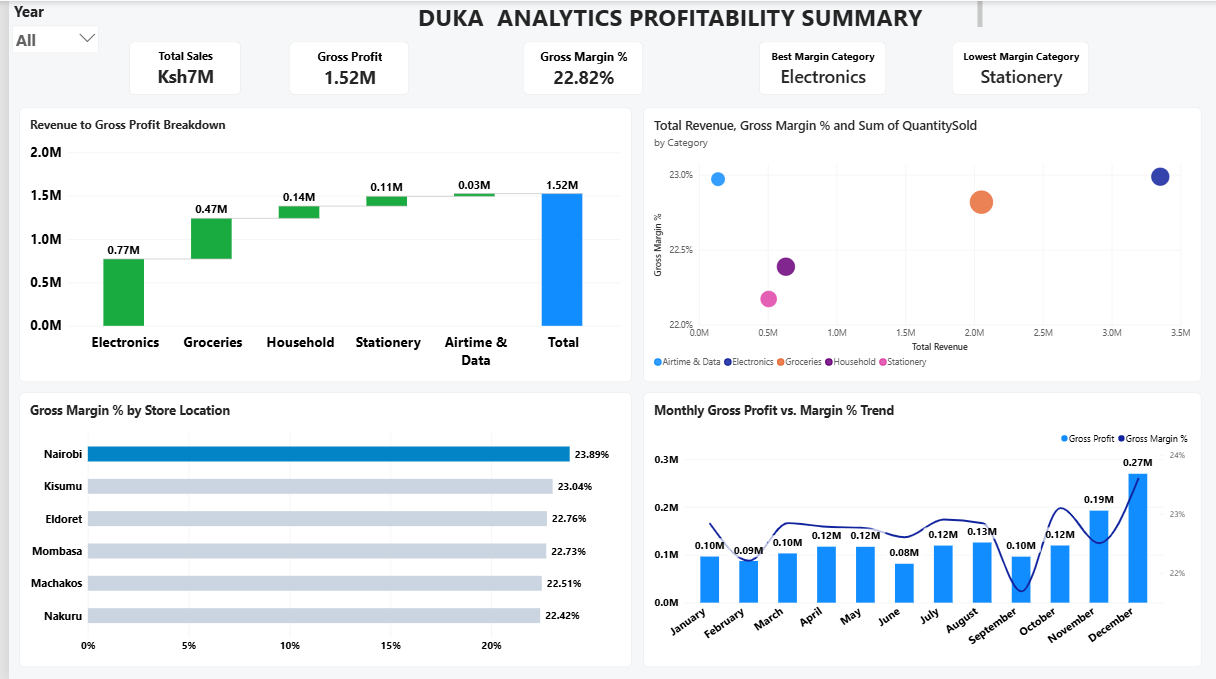

The page's visual inventory and layout, read from the dashboard file:
{"tool":"powerbi","page":{"name":"Profitability","canvas":[1920,1080],"ordinal":4},"visuals":[{"type":"waterfallChart","title":"Revenue to Gross Profit Breakdown","fields":{"Category":["DimProduct.Category"],"Y":["Table.Gross Profit"]},"box":[16.7,169.4,973.5,436.6],"z":0},{"type":"pivotTable","fields":{"Rows":["DimProduct.ProductName"],"Values":["Table.Gross Margin %"]},"box":[1925.3,354.6,543.5,1090.2],"z":1000},{"type":"slicer","fields":{"Values":["DimCalendar.Year"]},"box":[0,0,147.9,90.7],"z":2000},{"type":"textbox","box":[563.1,0,985.4,45.3],"z":3000},{"type":"cardVisual","fields":{"Data":["Measures_table.Gross Profit"]},"box":[446.2,64.4,190.9,85.9],"z":4000},{"type":"cardVisual","fields":{"Data":["Measures_table.Gross Margin %"]},"box":[818.4,64.4,190.9,85.9],"z":5000},{"type":"cardVisual","fields":{"Data":["Measures_table.Best Margin Category"]},"box":[1193,64.4,202.8,85.9],"z":6000},{"type":"cardVisual","fields":{"Data":["Measures_table.Lowest Margin Category"]},"box":[1500.7,64.4,217.1,85.9],"z":7000},{"type":"scatterChart","fields":{"Series":["DimProduct.Category"],"Size":["Sum(FactSales.QuantitySold)"],"X":["Measures_table.Total Revenue"],"Y":["Measures_table.Gross Margin %"]},"box":[1009.2,169.4,887.6,436.6],"z":8000},{"type":"cardVisual","fields":{"Data":["Measures_table.Total Sales"]},"box":[190.9,64.4,178.9,85.9],"z":10000},{"type":"lineStackedColumnComboChart","title":"Monthly Gross Profit vs. Margin % Trend","fields":{"Category":["DimCalendar.MonthName"],"Y":["Measures_table.Gross Profit"],"Y2":["Measures_table.Gross Margin %"]},"box":[1009.2,622.7,887.6,436.6],"z":10001},{"type":"barChart","title":"Gross Margin % by Store Location","fields":{"Category":["FactSales.StoreLocation"],"Y":["Measures_table.Gross Margin %"]},"box":[16.7,622.7,973.5,436.6],"z":10002}]}

Visuals, with their boxes in screenshot pixels (x1, y1, x2, y2), scaled from the page's 1920x1080 canvas onto the 1216x679 screenshot:
"Revenue to Gross Profit Breakdown" waterfallChart: x1=11 y1=107 x2=627 y2=381
slicer - DimCalendar.Year: x1=0 y1=0 x2=94 y2=57
textbox: x1=357 y1=0 x2=981 y2=28
cardVisual - Measures_table.Gross Profit: x1=283 y1=40 x2=403 y2=94
cardVisual - Measures_table.Gross Margin %: x1=518 y1=40 x2=639 y2=94
cardVisual - Measures_table.Best Margin Category: x1=756 y1=40 x2=884 y2=94
cardVisual - Measures_table.Lowest Margin Category: x1=950 y1=40 x2=1088 y2=94
scatterChart - DimProduct.Category x Sum(FactSales.QuantitySold): x1=639 y1=107 x2=1201 y2=381
cardVisual - Measures_table.Total Sales: x1=121 y1=40 x2=234 y2=94
"Monthly Gross Profit vs. Margin % Trend" lineStackedColumnComboChart: x1=639 y1=391 x2=1201 y2=666
"Gross Margin % by Store Location" barChart: x1=11 y1=391 x2=627 y2=666
